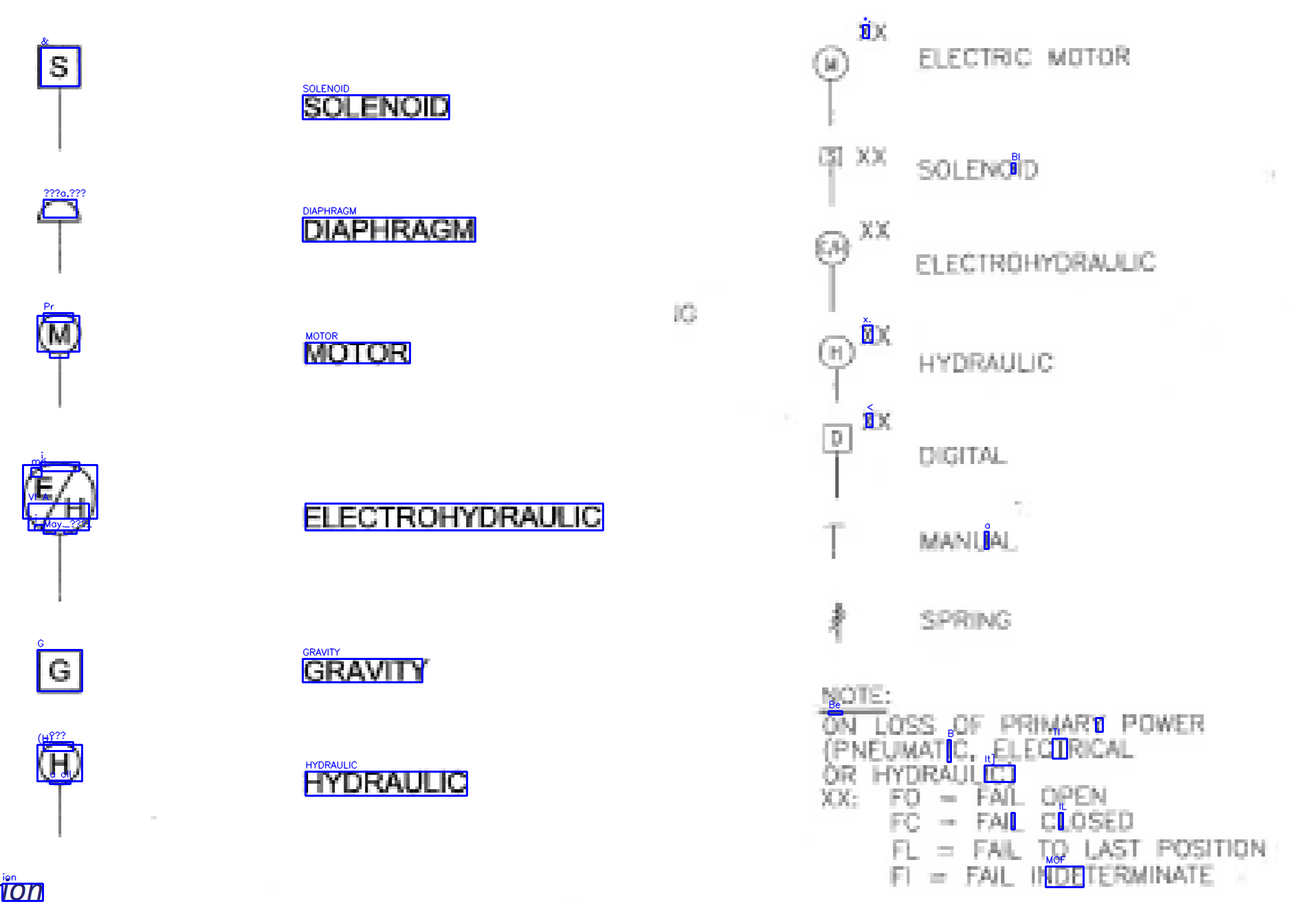Motor: (803, 12, 891, 133), (31, 305, 89, 409)
Outro: (16, 450, 104, 606), (808, 404, 900, 506), (801, 210, 897, 307), (810, 316, 897, 406), (30, 33, 89, 161), (806, 136, 891, 204), (35, 732, 84, 835), (35, 192, 87, 273), (31, 639, 85, 701), (812, 506, 858, 571), (819, 591, 856, 654)
